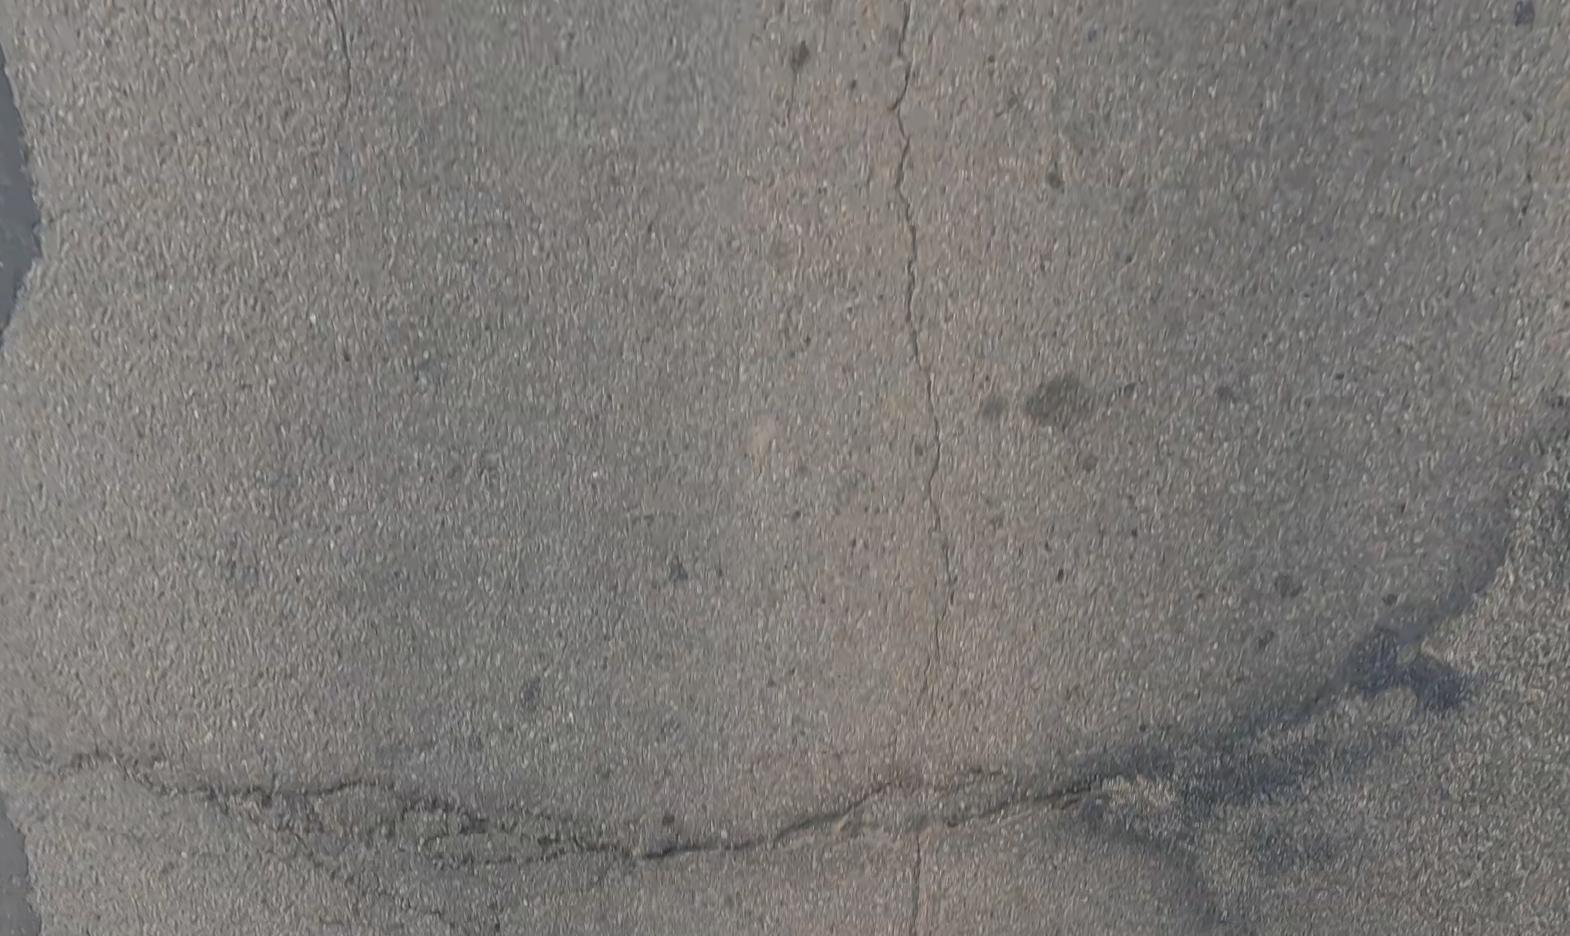pothole_patch_good: (1065, 400, 1570, 936), (0, 49, 38, 331), (0, 800, 38, 936)
